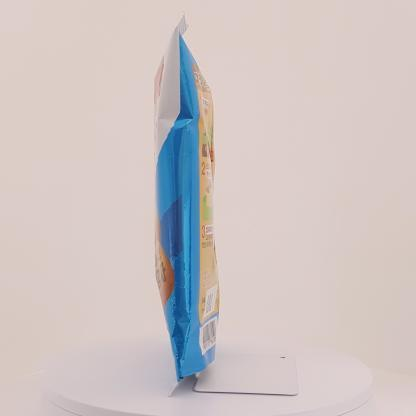Plastic Packaging: (146, 13, 222, 379)
